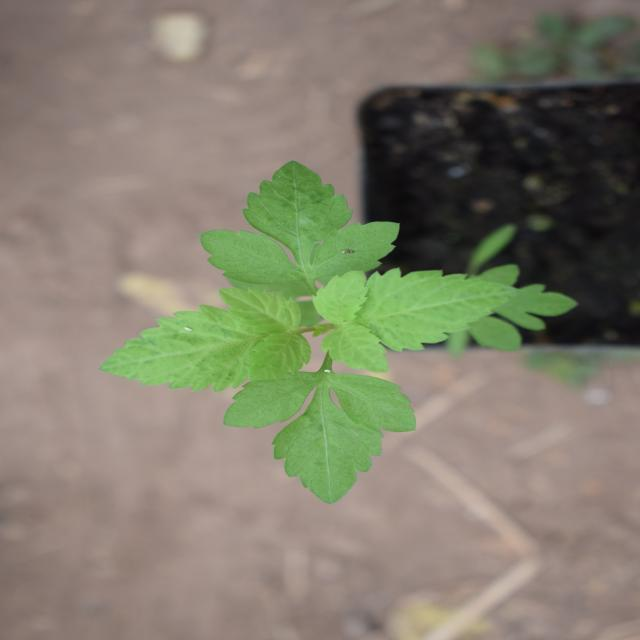Bidens pilosa: (133, 104, 475, 534)
